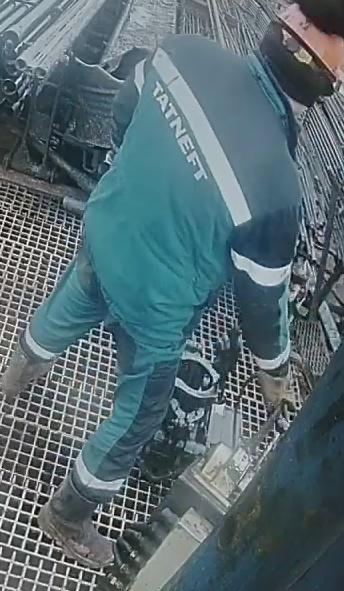gloves: (250, 356, 298, 415)
helmet: (274, 0, 343, 85)
vest: (83, 32, 304, 343)
